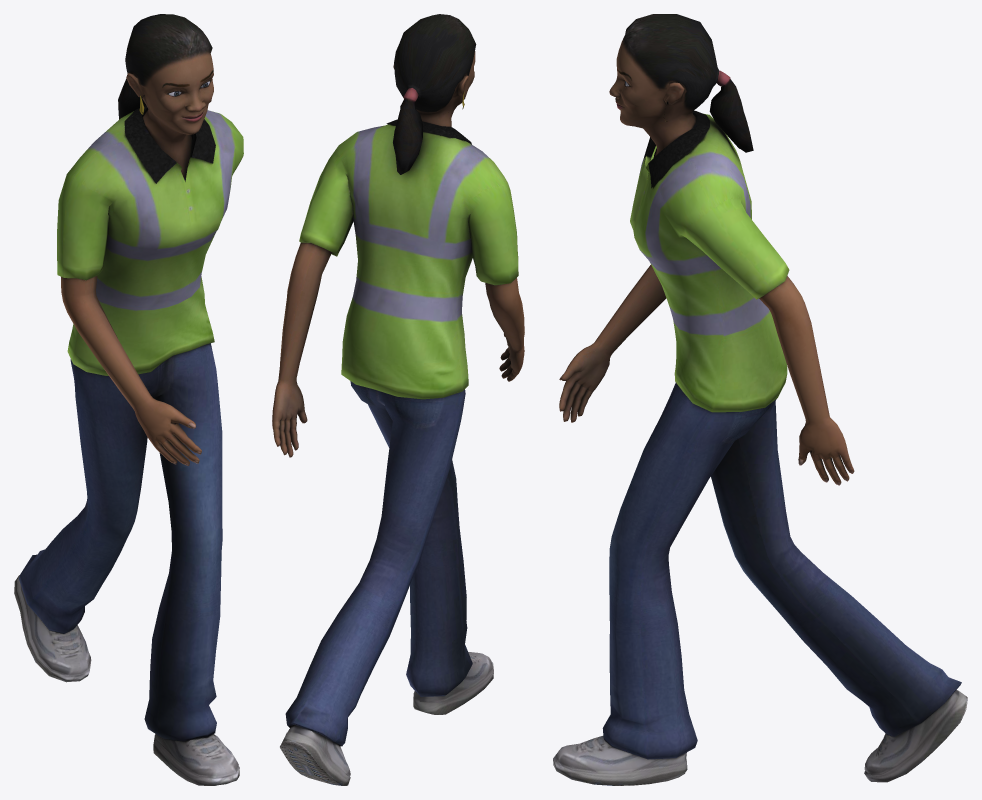
The model's file is SWRK01_10_03.FBX.
3 views of the same model, side by side, from view 1: azimuth 30°, elevation 25°; view 2: azimuth 150°, elevation 25°; view 3: azimuth 270°, elevation 25° (orthographic). The views are drawn at different scales.
Parts seen in each view (by area): view 1: SWRK01_10_03; view 2: SWRK01_10_03; view 3: SWRK01_10_03.
Boxes of the visible parts, x1,y1,x2,y2 form: SWRK01_10_03: (14,14,243,785); SWRK01_10_03: (272,14,524,785); SWRK01_10_03: (553,14,967,785).
Bounding box in the file's own units: 17.96 × 66.04 × 32.82.
Materials: 1 (1 with a texture image).
